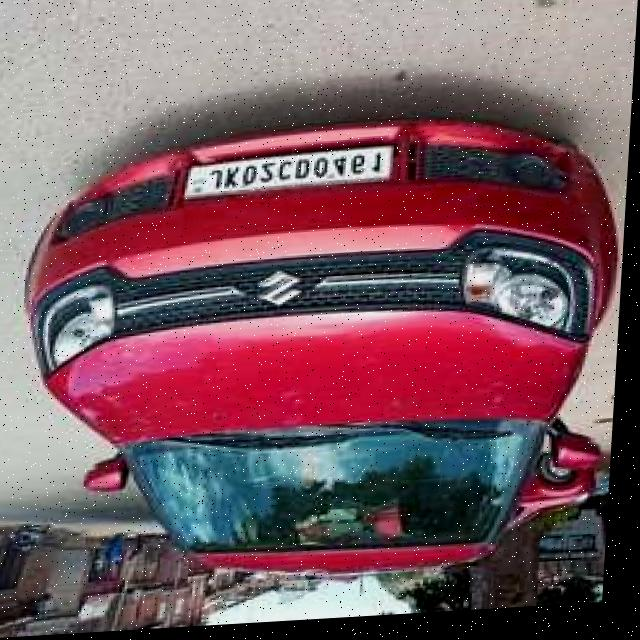plate: (184, 150, 396, 201)
